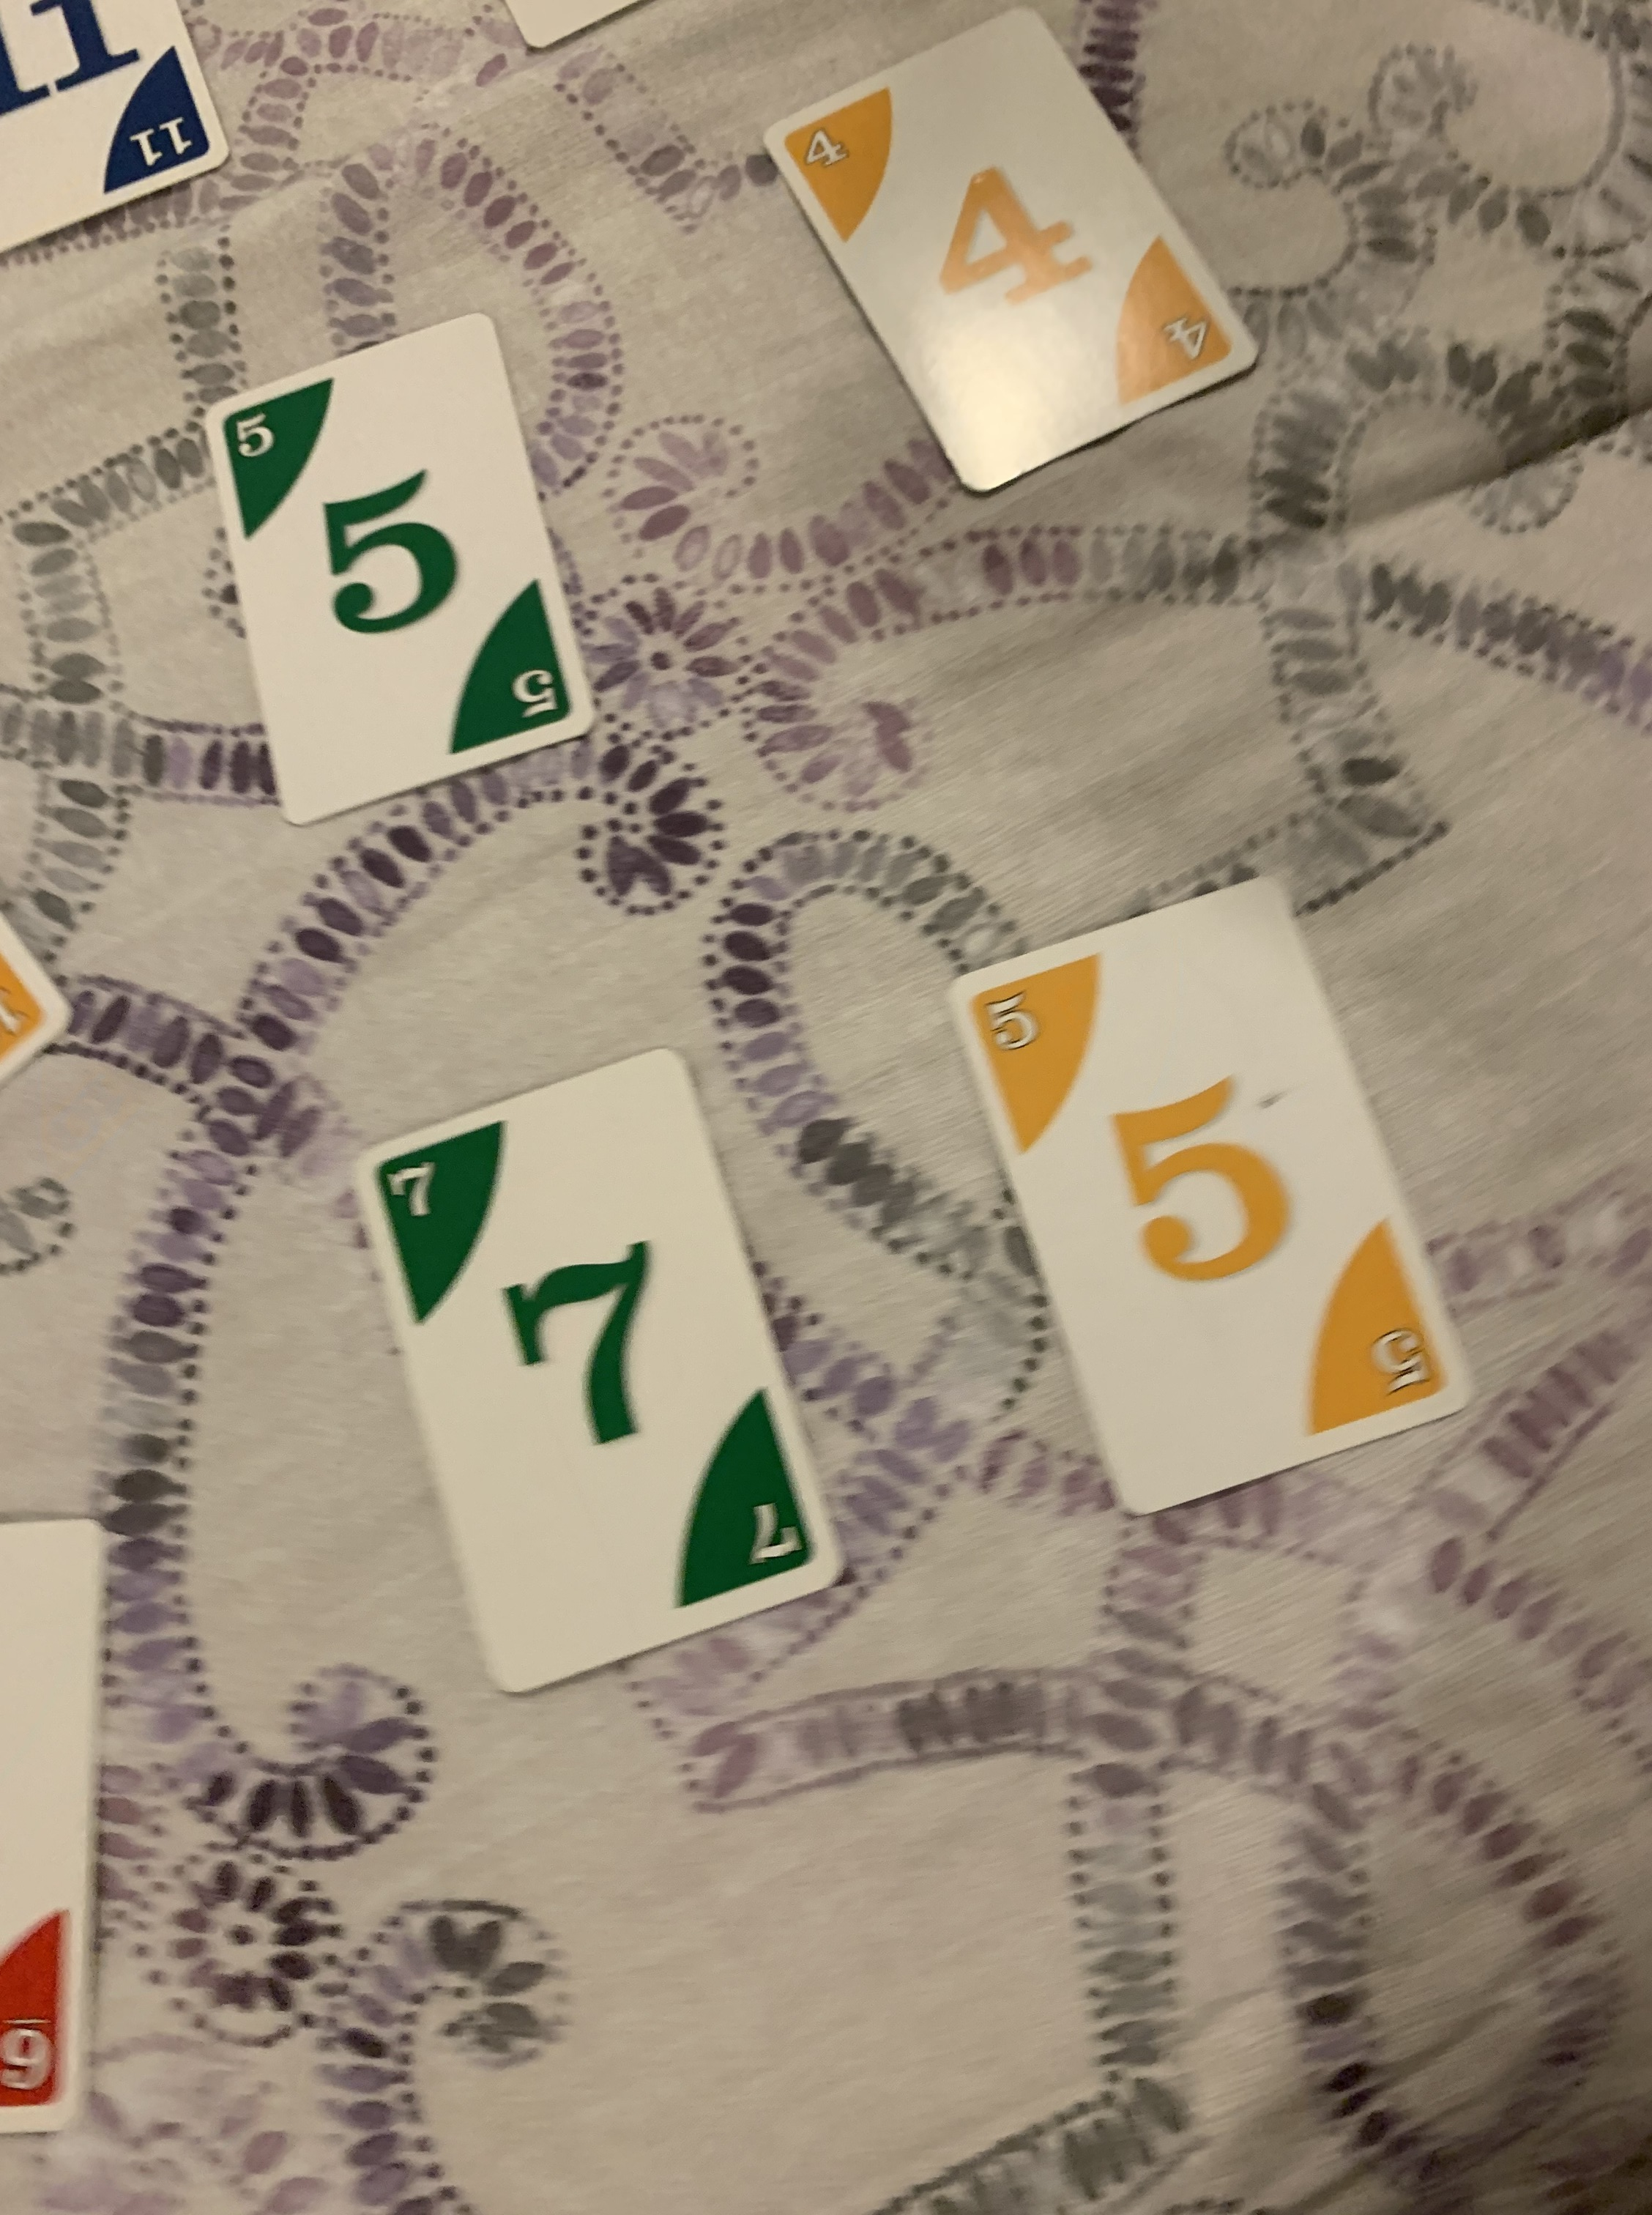five: (937, 871, 1484, 1517), (182, 309, 600, 831)
four: (746, 3, 1267, 507)
seven: (349, 1036, 849, 1712)
